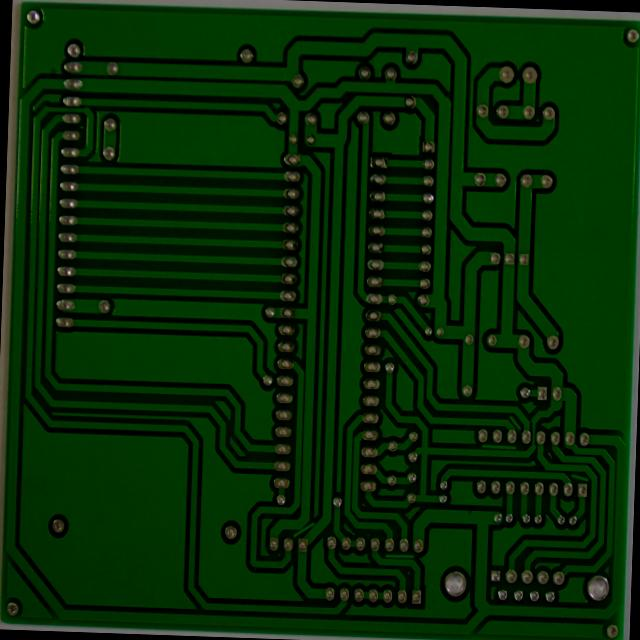spurious_copper: (302, 560, 332, 581), (400, 591, 441, 606), (503, 474, 546, 488), (532, 445, 550, 468), (598, 507, 623, 523)
